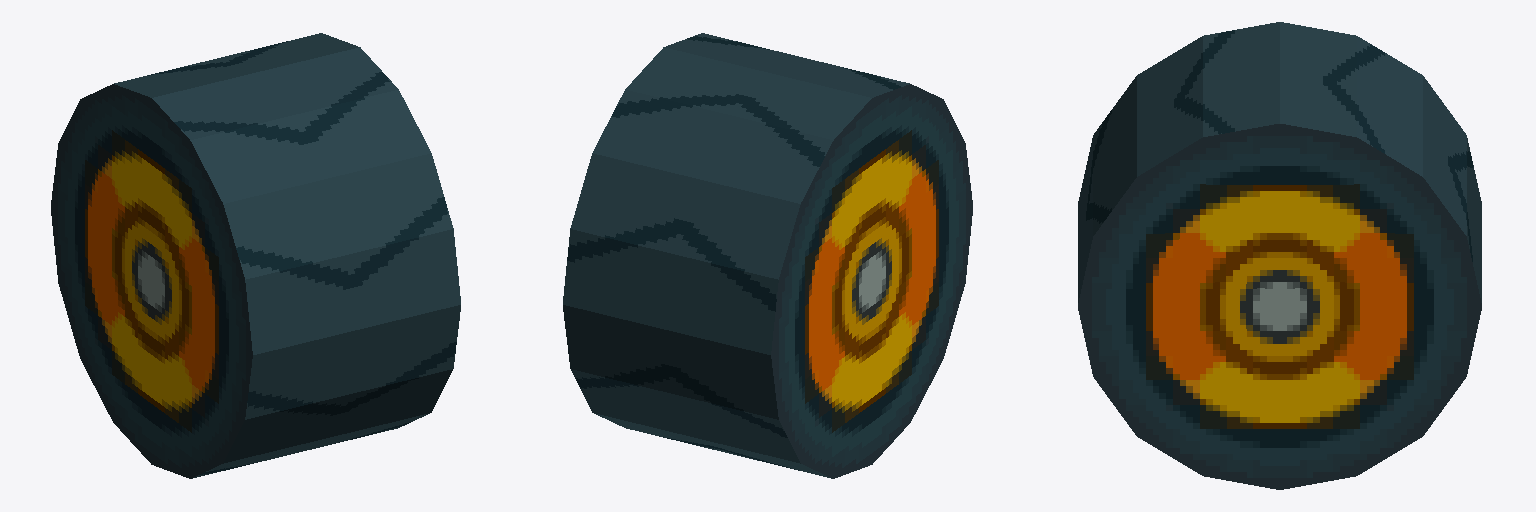
3 renders of one model, left to right at view 1: azimuth 30°, elevation 25°; view 2: azimuth 150°, elevation 25°; view 3: azimuth 270°, elevation 25°, orthographic.
Visible parts, largest first — view 1: polygon0; view 2: polygon0; view 3: polygon0.
Boxes of the visible parts, box(x1,y1,x2,y2) form: polygon0: box(51, 33, 460, 478); polygon0: box(563, 33, 972, 478); polygon0: box(1078, 22, 1481, 489).
Bounding box in the file's own units: 0.1855 × 0.312 × 0.312.
Materials: 1 (1 with a texture image).